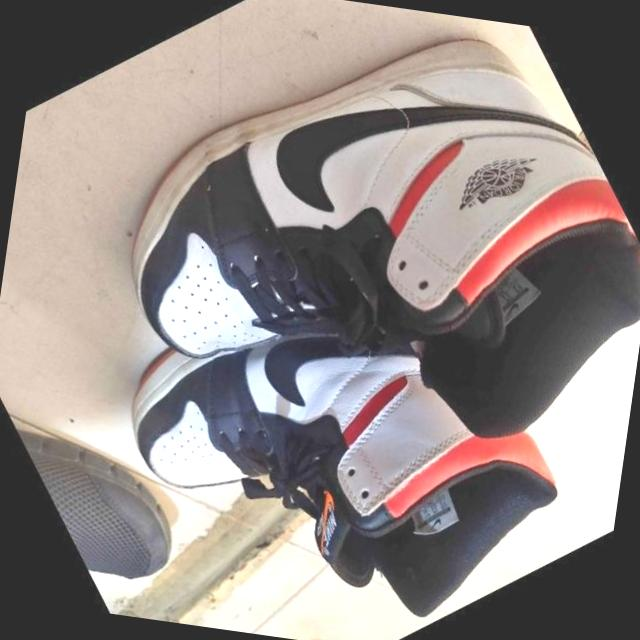nike_fake_jordan: (34, 0, 640, 609), (68, 172, 626, 640)
